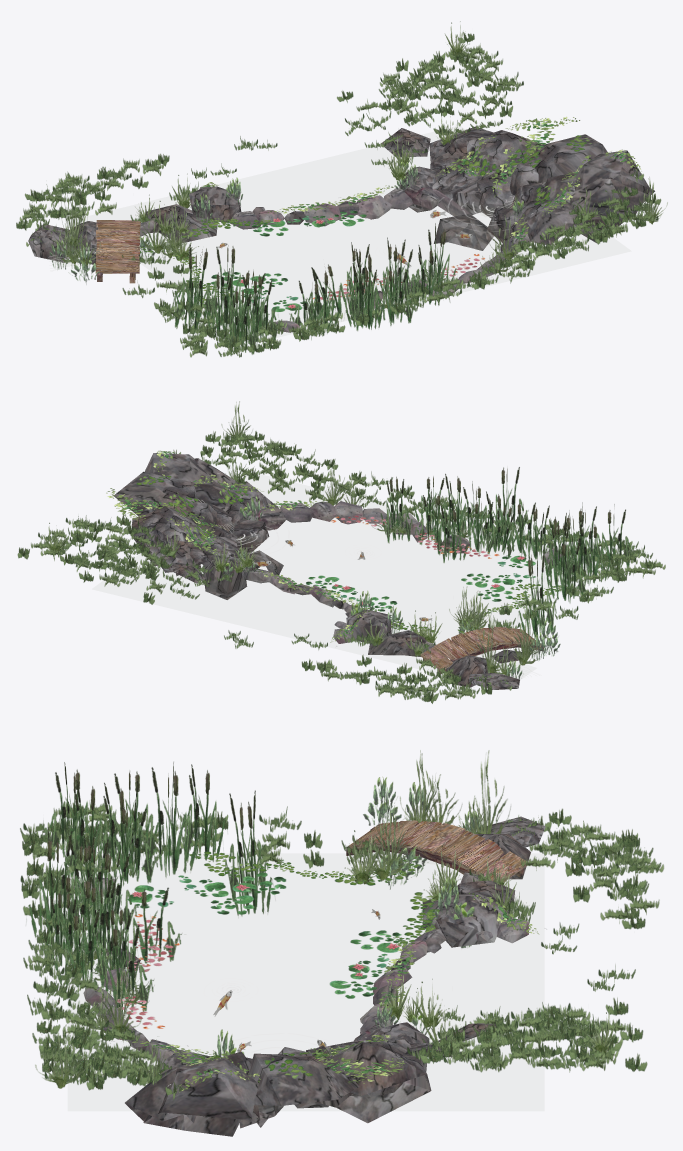
File: pond.glb
The picture shows the model from 3 angles, top to bottom: view 1: azimuth 30°, elevation 25°; view 2: azimuth 150°, elevation 25°; view 3: azimuth 270°, elevation 25°; orthographic projection. The views are drawn at different scales.
Parts seen in each view (by area): view 1: Icosphere.005, Icosphere.011, Icosphere.004, Icosphere.010, Icosphere.001, Icosphere.012, Icosphere.007, Icosphere.024, Icosphere.018, Icosphere, Plane.056, Icosphere.009 (+29 smaller); view 2: Icosphere.004, Icosphere.010, Icosphere.012, Icosphere.006, Icosphere.005, Icosphere.001, Icosphere.009, Plane.087, Icosphere.018, Icosphere.024, Icosphere.013, Plane.059 (+26 smaller); view 3: Icosphere.012, Icosphere.010, Icosphere.004, Icosphere.018, Plane.084, Plane.087, Plane.056, Plane.085, Plane.083, Plane.059, Icosphere.011, Plane.038 (+33 smaller).
Part boxes in pixels (x1,y1,x2,y2): Icosphere.005: (430, 157, 501, 216); Icosphere.011: (569, 177, 654, 242); Icosphere.004: (516, 134, 607, 184); Icosphere.010: (466, 130, 542, 177); Icosphere.001: (516, 198, 578, 244); Icosphere.012: (575, 150, 649, 220); Icosphere.007: (434, 213, 493, 250); Icosphere.024: (146, 204, 217, 243); Icosphere.018: (189, 186, 241, 222); Icosphere: (477, 170, 514, 218); Plane.056: (348, 249, 384, 330); Icosphere.009: (429, 126, 496, 164); Icosphere.004: (114, 471, 198, 519); Icosphere.010: (132, 507, 199, 566); Icosphere.012: (144, 453, 210, 483); Icosphere.006: (202, 557, 247, 599); Icosphere.005: (176, 526, 238, 576); Icosphere.001: (223, 481, 275, 529); Icosphere.009: (143, 527, 200, 572); Plane.087: (518, 552, 556, 639); Icosphere.018: (346, 609, 391, 643); Icosphere.024: (368, 630, 427, 656); Icosphere.013: (228, 519, 269, 555); Plane.059: (380, 476, 413, 543); Icosphere.012: (143, 1057, 258, 1136); Icosphere.010: (323, 1039, 431, 1123); Icosphere.004: (248, 1053, 359, 1107); Icosphere.018: (434, 891, 505, 947); Plane.084: (140, 762, 200, 877); Plane.087: (223, 790, 273, 916); Plane.056: (26, 827, 84, 941); Plane.085: (179, 764, 226, 862); Plane.083: (101, 799, 158, 885); Plane.059: (93, 916, 153, 1013); Icosphere.011: (125, 1068, 189, 1121); Plane.038: (52, 904, 112, 989).
Bounding box in the file's own units: 1821 × 439 × 1462.
4 materials, 3 textured.
